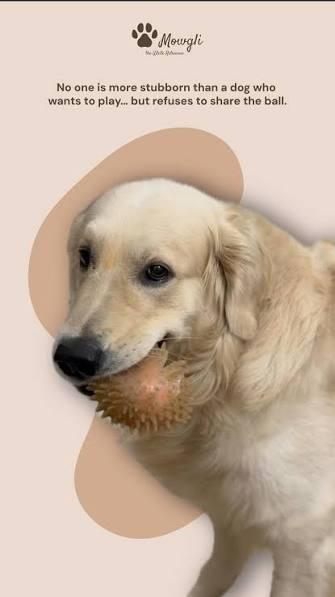adult_dog: (48, 178, 335, 597)
